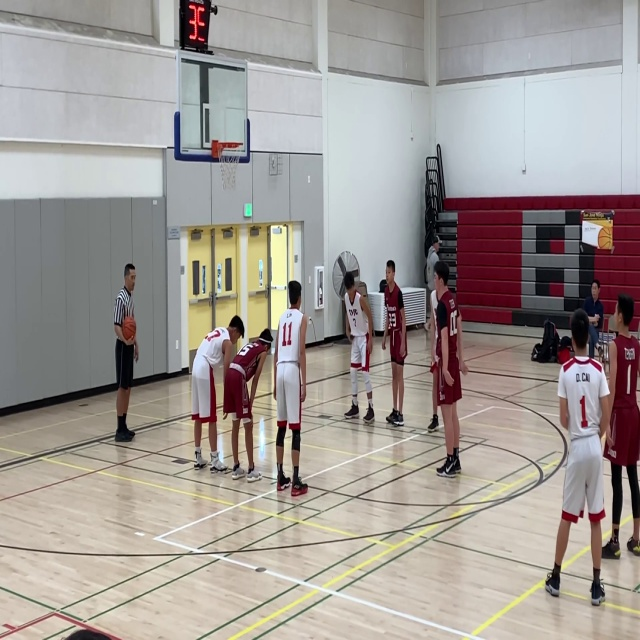Basketball: (121, 317, 136, 341)
